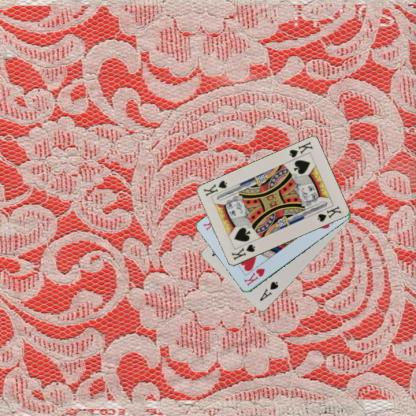As: (257, 279, 280, 303)
Kh: (241, 266, 266, 287)
Ks: (286, 139, 314, 159), (229, 242, 256, 262)
